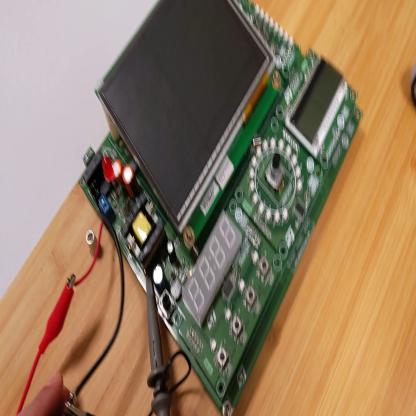hand: (23, 374, 68, 415)
low voltage board: (82, 3, 366, 415)
oscilloscope probe tip: (145, 261, 172, 415)
working area: (3, 2, 415, 415)
